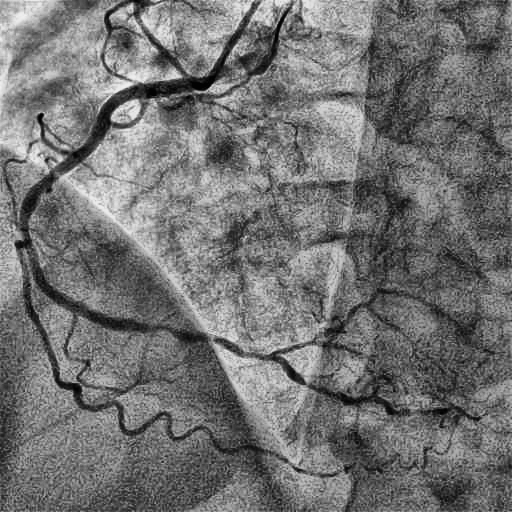pborca: (275, 341, 349, 354)
pda: (273, 354, 480, 421)
rca: (20, 77, 273, 360)
